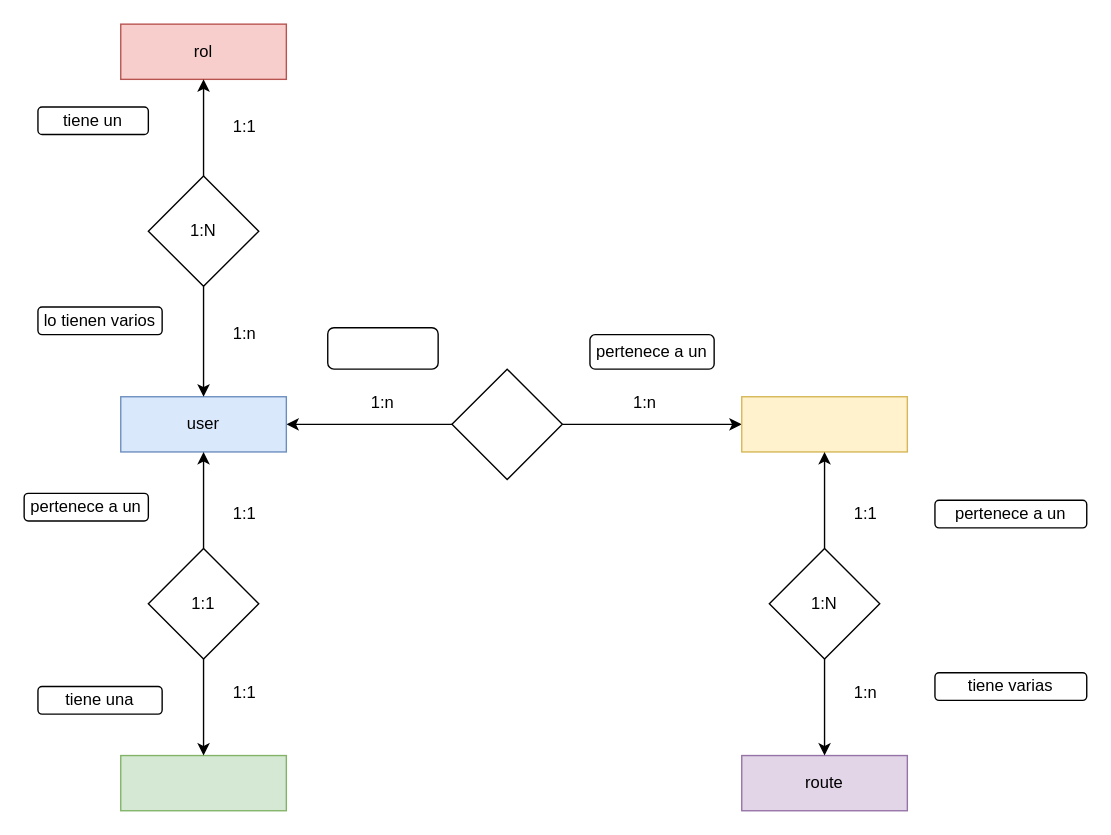
This 1111x835 diagram has some shape labels left out. The centre of each missing label's shape, as x and y in pixels:
"contiene muchos" goes at (x=382, y=347).
"group" goes at (x=823, y=423).
"N:M" goes at (x=506, y=424).
"u _image" goes at (x=202, y=782).
